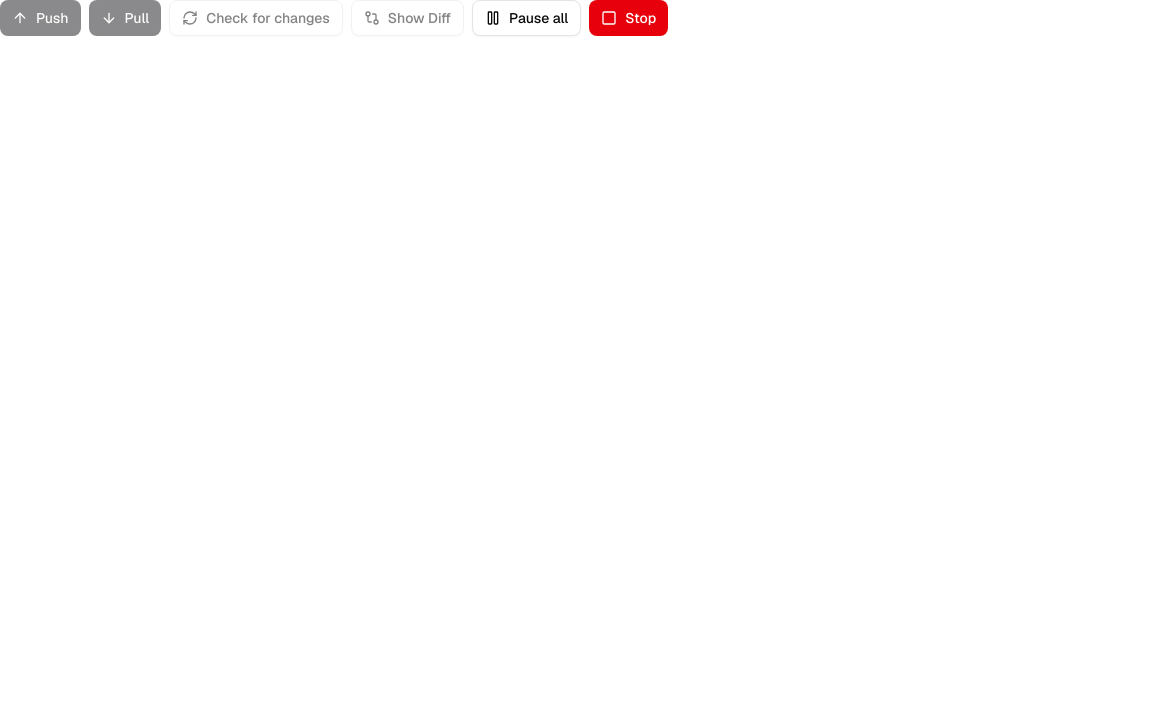
Scenario: SyncControls while a profile syncs › asks before stopping and names the running profile
The width and height of the screenshot is (1152, 720).
Click the button "Stop".
click(629, 18)  # box [589, 0, 668, 36]
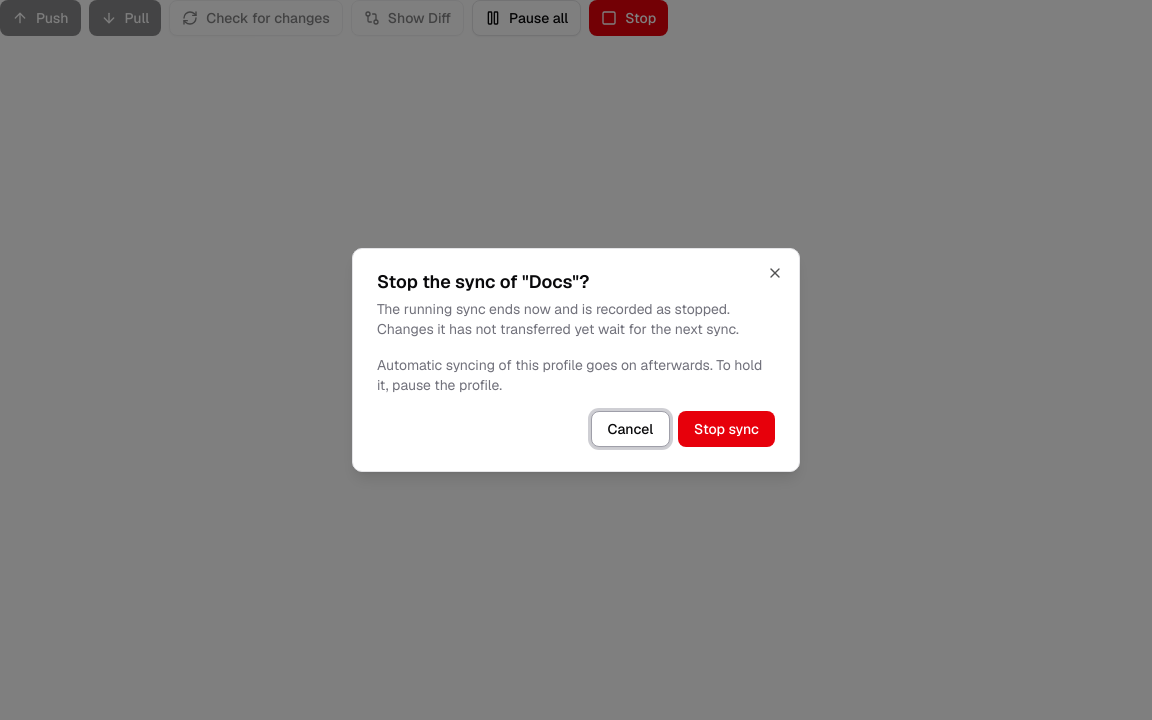
Check: the text "Automatic syncing of this profile goes on afterwards" is shown, box [377, 356, 762, 394]
